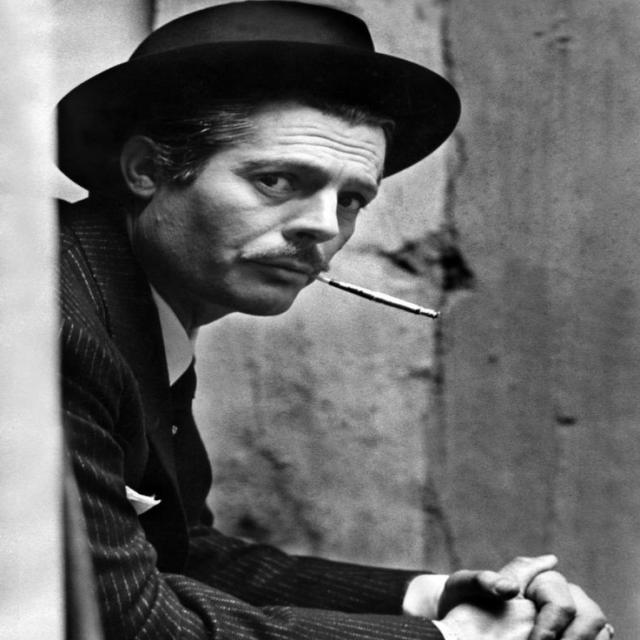smoking: (135, 80, 526, 343)
